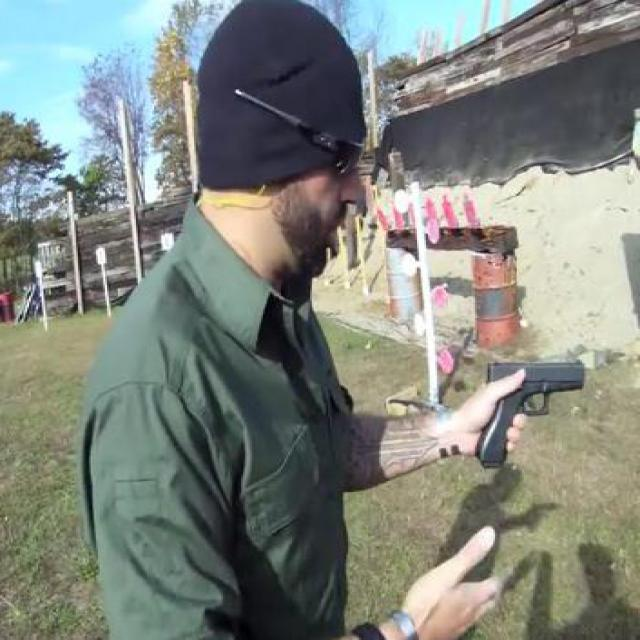Gun: (475, 354, 589, 468)
